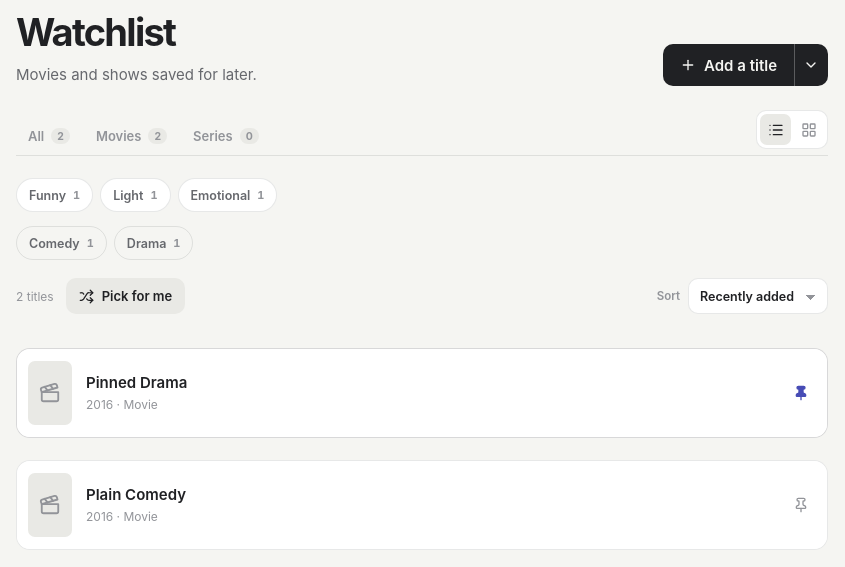
LibraryView watchlist mode › filters pinned titles out like any other when they do not match
Expected: the button with aria-label "View Pinned Drama" is shown, top-left (17, 349), bottom-right (827, 437)
Click the button "Funny 1". click: x=55, y=195
box: top-left (16, 178), bottom-right (93, 212)
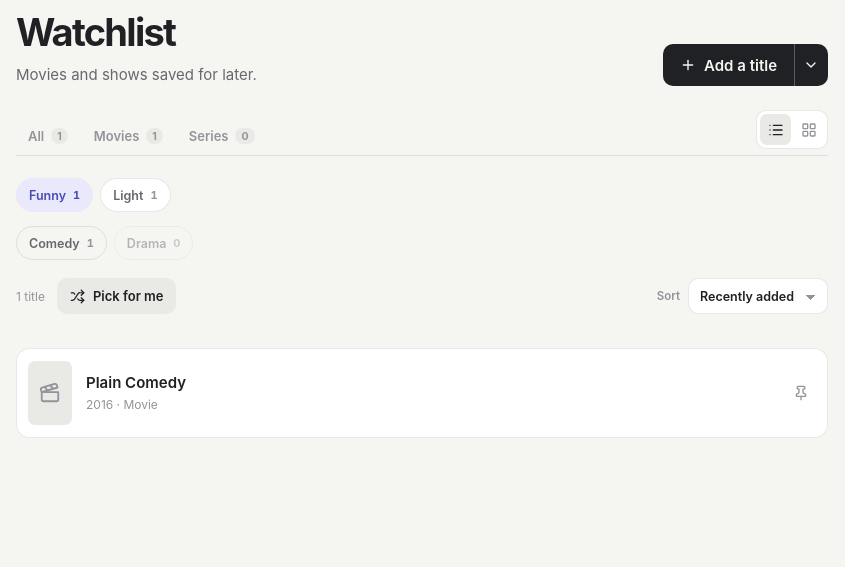
Expected: the button with aria-label "View Plain Comedy" is shown, top-left (17, 349), bottom-right (827, 437)
Expected: the button "Pinned" is gone
